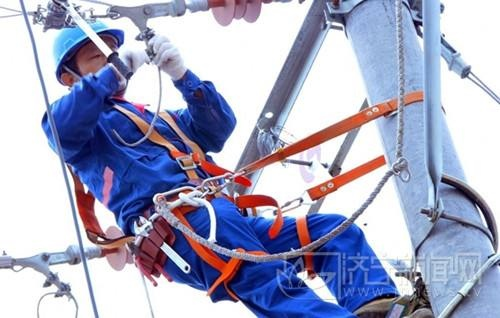blue: (51, 14, 130, 95)
